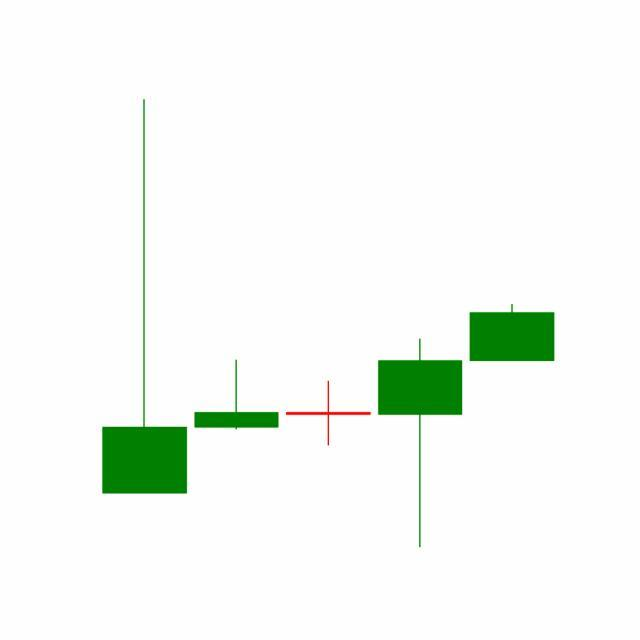Marubozu: (466, 303, 559, 361)
